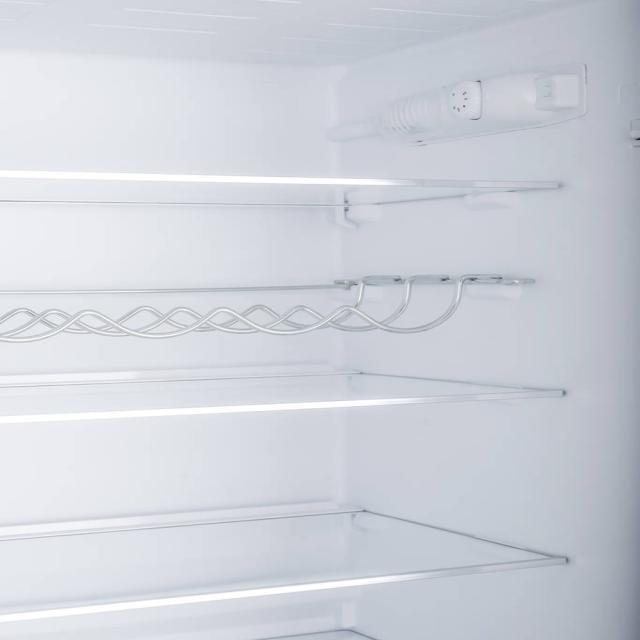fridge-space: (2, 246, 461, 332), (0, 121, 543, 179), (3, 491, 279, 596), (281, 463, 516, 579), (1, 367, 467, 411)
